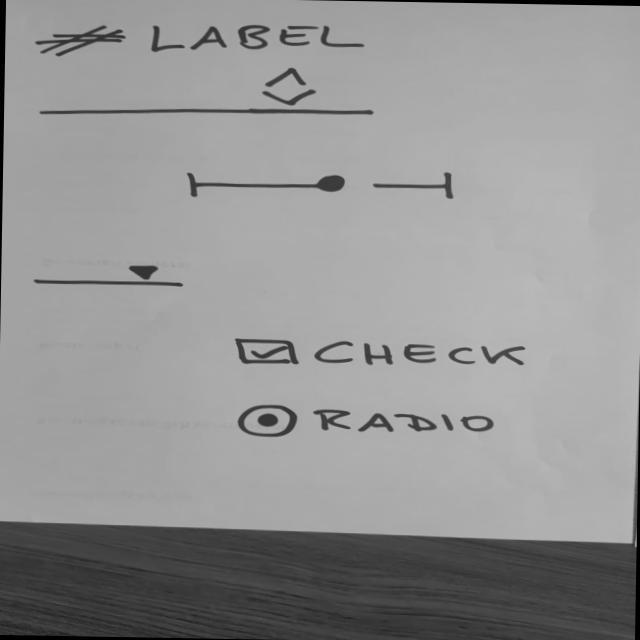checkbox: (229, 334, 540, 374)
label: (32, 16, 373, 64)
number-input: (30, 60, 381, 124)
radio: (232, 403, 304, 443)
select: (30, 261, 191, 292)
slider: (181, 165, 464, 204)
